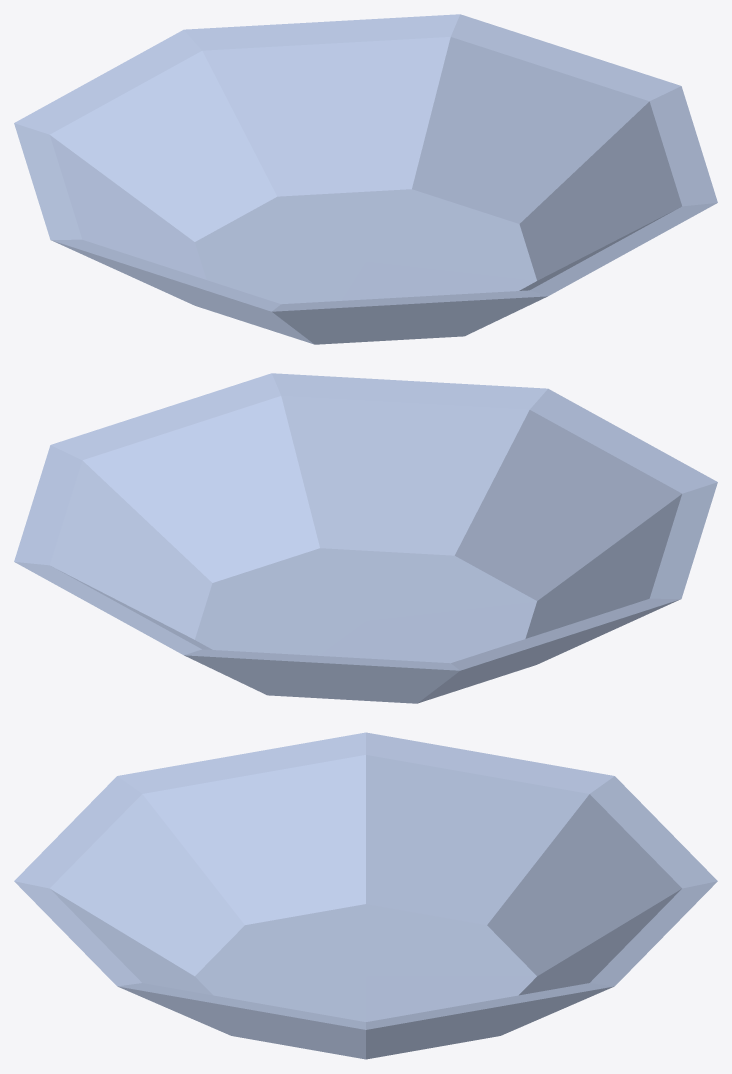
The model's file is Bowl.fbx.
3 renders of one model, top to bottom at view 1: azimuth 30°, elevation 25°; view 2: azimuth 150°, elevation 25°; view 3: azimuth 270°, elevation 25°, orthographic. The views are drawn at different scales.
Visible parts, largest first — view 1: Bowl; view 2: Bowl; view 3: Bowl.
Boxes of the visible parts, bbox=[...] form: Bowl: bbox=[14, 14, 717, 344]; Bowl: bbox=[14, 373, 717, 703]; Bowl: bbox=[14, 732, 717, 1059].
Size of the model in its own units: 157 by 25 by 157.
